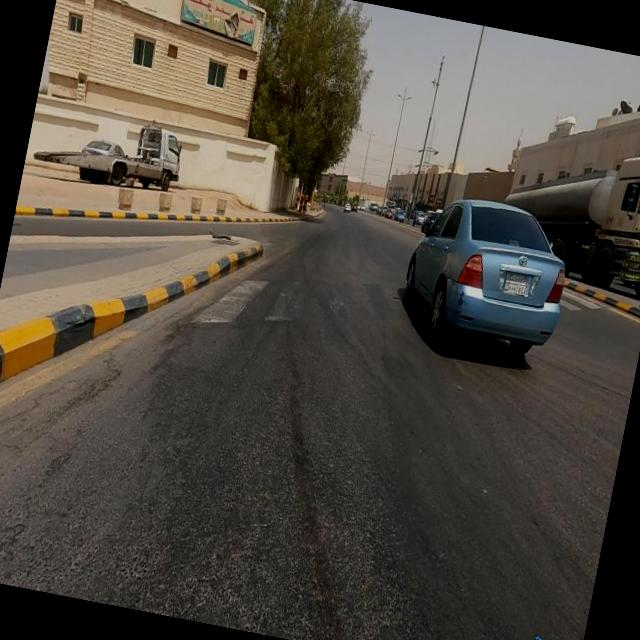debris: (117, 0, 320, 82)
